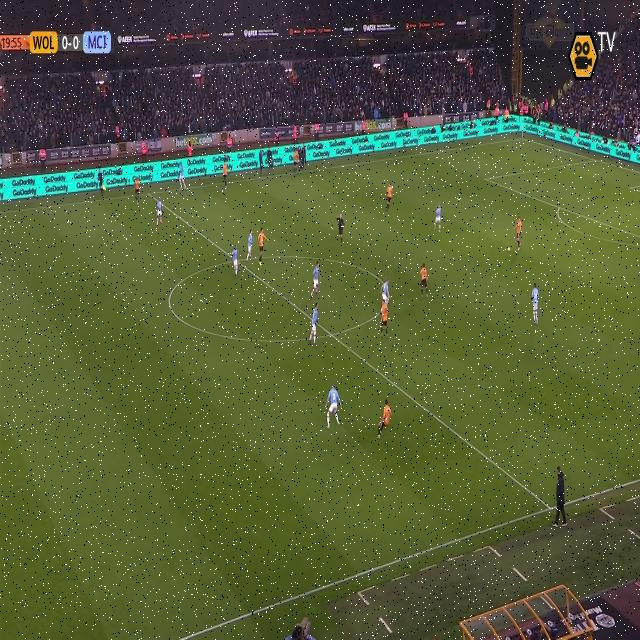Ball: (507, 243, 511, 257)
TEAM 1: (376, 401, 392, 439), (257, 226, 268, 265), (418, 262, 429, 298), (380, 302, 391, 338), (384, 182, 394, 212), (222, 161, 230, 189), (133, 178, 141, 205), (293, 150, 301, 174)
TEAM 2: (324, 384, 342, 429), (308, 302, 319, 358), (532, 282, 542, 324), (310, 262, 320, 298), (175, 162, 186, 193), (514, 218, 523, 252), (380, 279, 392, 304), (231, 246, 240, 278), (155, 198, 165, 226), (245, 228, 253, 262), (435, 206, 444, 233)
